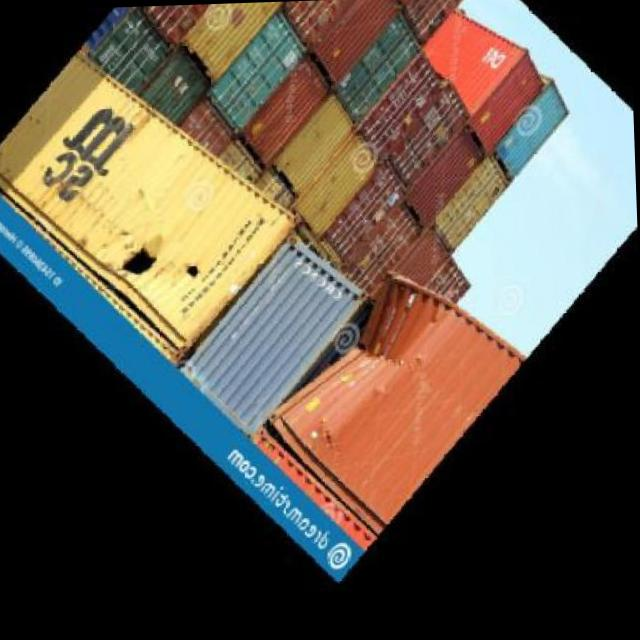Deframe_or_Dent: (304, 255, 408, 391)
Hole: (106, 216, 208, 298)
